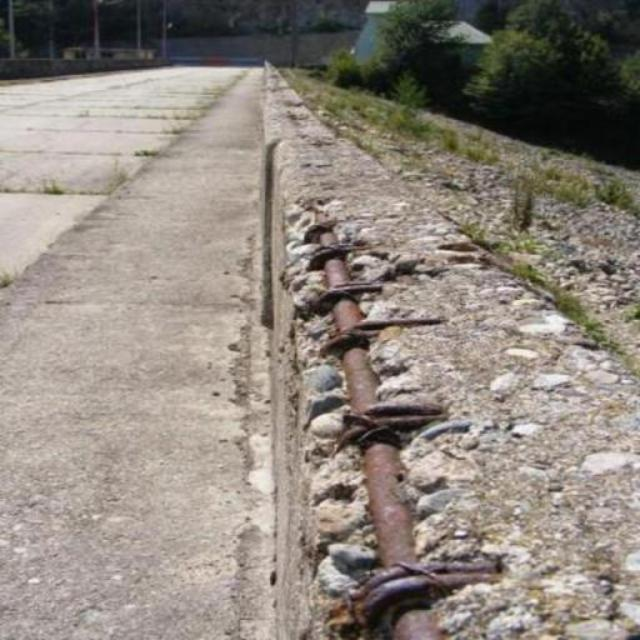D0w0: (274, 74, 639, 637)
